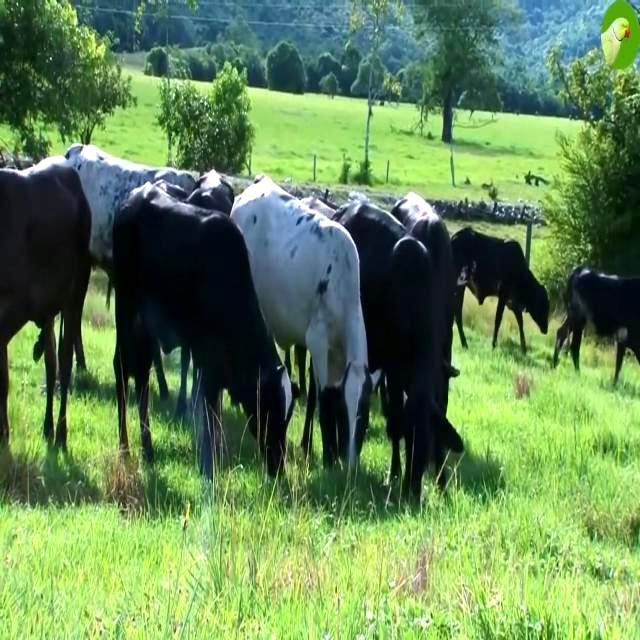COW: (114, 184, 291, 477), (231, 178, 368, 466), (334, 199, 434, 497), (0, 158, 92, 451)
